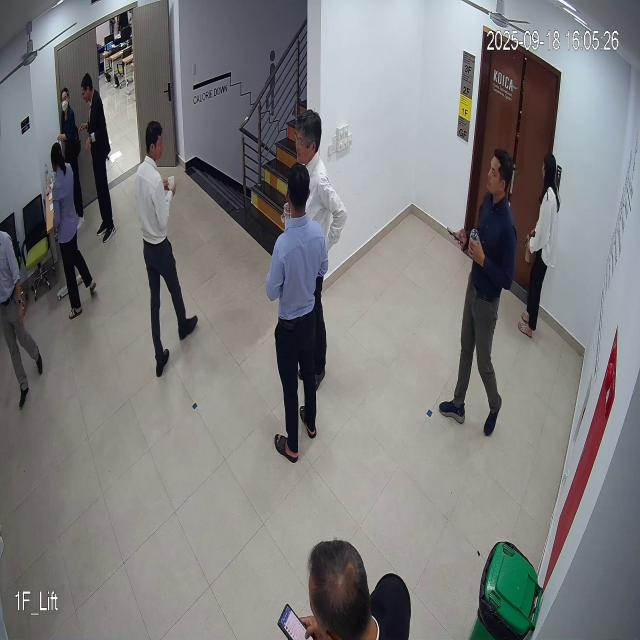face: (288, 104, 323, 164), (486, 145, 512, 199)
